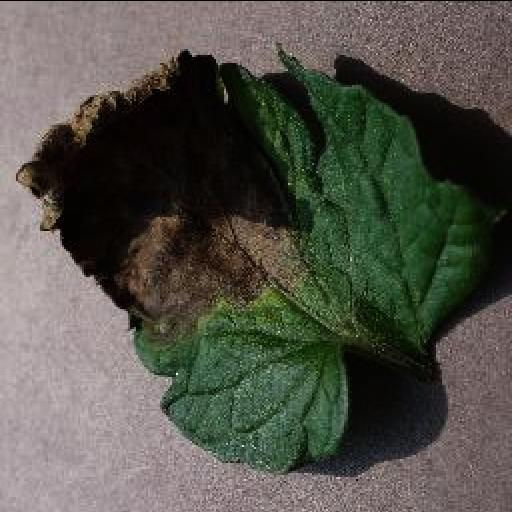disease_tomato: (16, 42, 512, 472)
